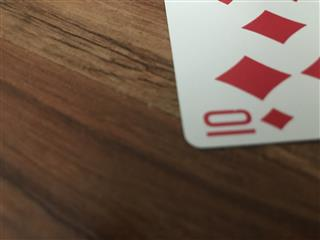TenOfDiamonds: (163, 1, 320, 150)
